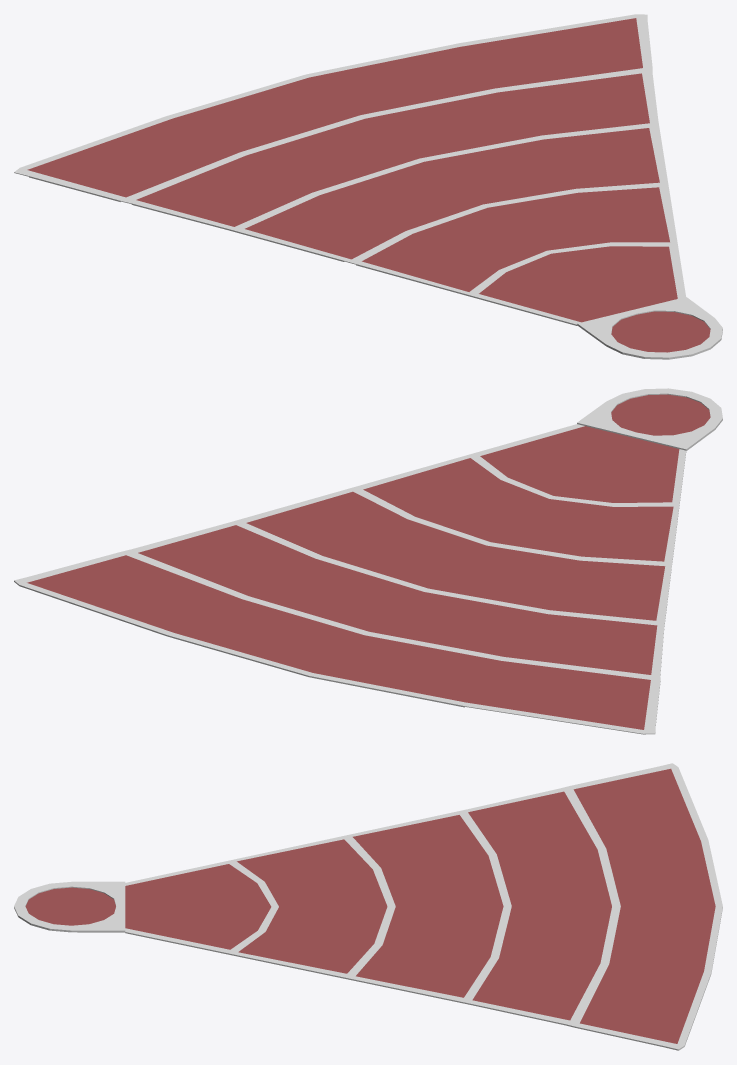
File: Shotput Area.fbx
3 views of the same model, one above another, from view 1: azimuth 30°, elevation 25°; view 2: azimuth 150°, elevation 25°; view 3: azimuth 270°, elevation 25° (orthographic). The views are drawn at different scales.
Visible parts, largest first — view 1: Shotput Area; view 2: Shotput Area; view 3: Shotput Area.
Part boxes in pixels (bbox=[...]): Shotput Area: bbox=[14, 14, 722, 359]; Shotput Area: bbox=[14, 388, 722, 734]; Shotput Area: bbox=[14, 763, 722, 1050].
Size of the model in its own units: 9727 by 39.31 by 10177.
